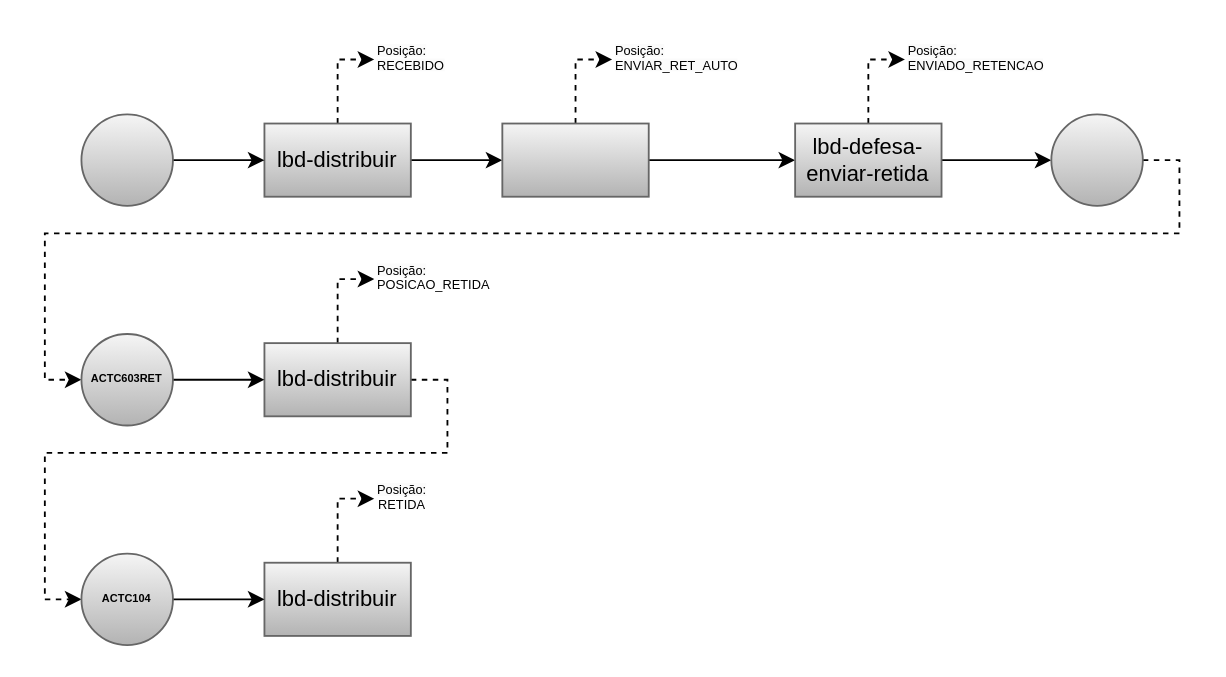
Image size: 1226x677. Some labels were removed from this diagram. Each missing label, with the centre of its shape:
ACTC602: the point at 126,159
ACTC603: the point at 1096,159
lbd-defesa-auto-reter: the point at 575,159
